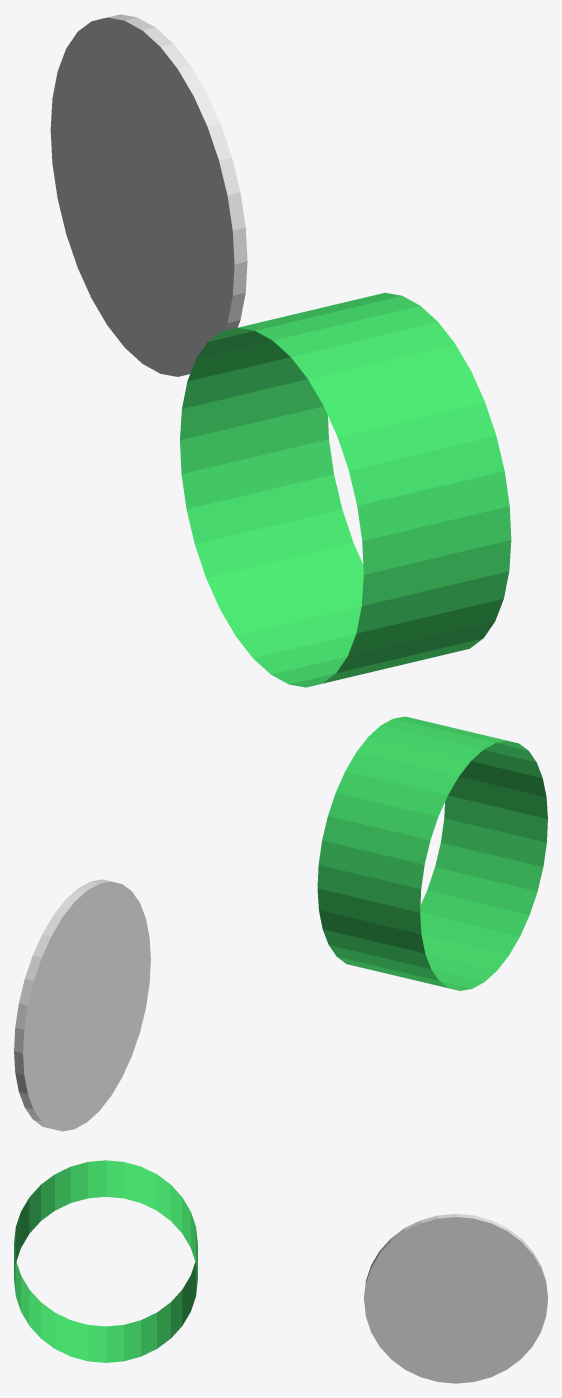
The model's file is Hazne3.fbx.
The picture shows the model from 3 angles, top to bottom: view 1: azimuth 30°, elevation 25°; view 2: azimuth 150°, elevation 25°; view 3: azimuth 270°, elevation 25°; orthographic projection. The views are drawn at different scales.
Visible parts, largest first — view 1: Hazne, Kapak; view 2: Hazne, Kapak; view 3: Kapak, Hazne.
Boxes of the visible parts, left/top/right/bottom form: Hazne: left=180, top=292, right=511, bottom=687; Kapak: left=50, top=14, right=247, bottom=376; Hazne: left=317, top=716, right=547, bottom=990; Kapak: left=14, top=879, right=150, bottom=1131; Kapak: left=364, top=1214, right=547, bottom=1383; Hazne: left=14, top=1160, right=197, bottom=1362.
Size of the model in its own units: 88.71 by 121 by 349.
